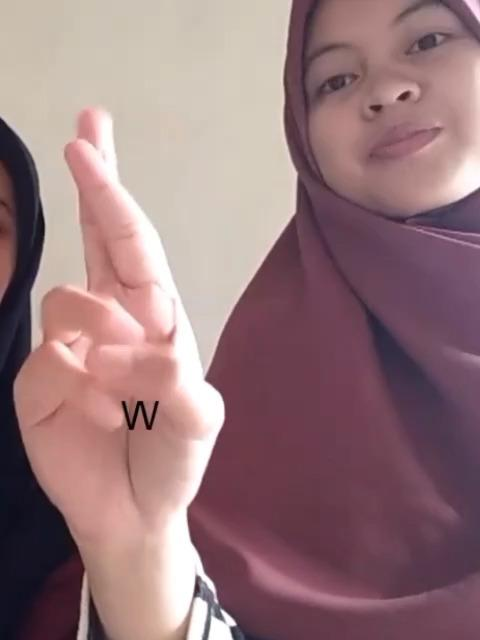R: (13, 101, 235, 525)
